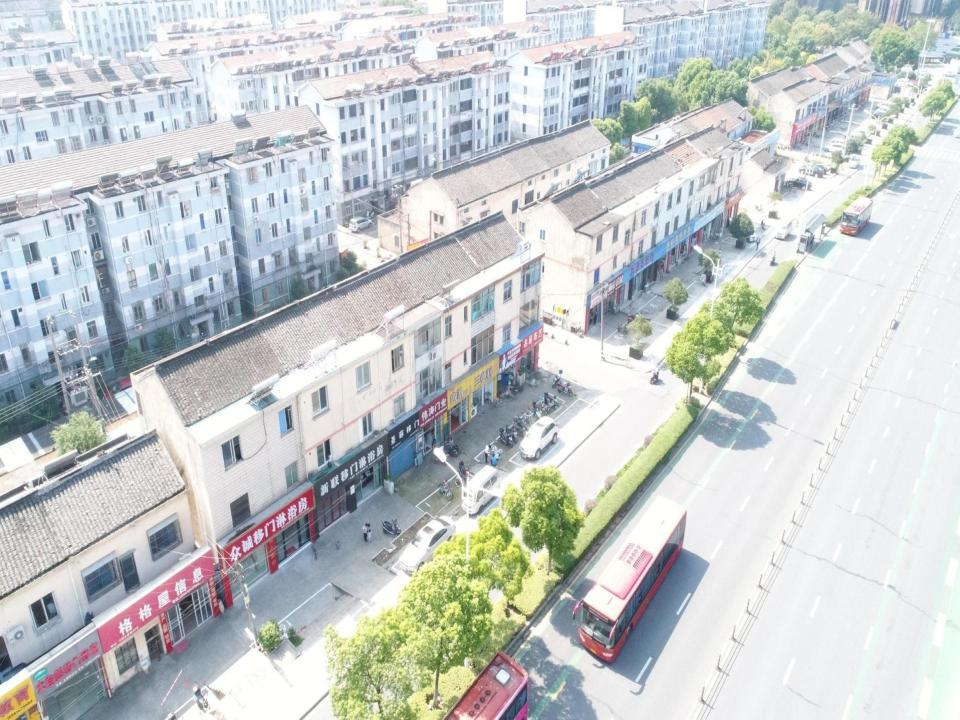bus: (575, 492, 686, 665), (443, 648, 540, 719), (838, 192, 876, 239)
car: (398, 516, 453, 572), (520, 416, 558, 462), (825, 133, 849, 156), (788, 172, 811, 190), (791, 175, 812, 190), (802, 164, 822, 178), (845, 154, 859, 168)
van: (462, 461, 500, 515), (774, 217, 790, 243)
